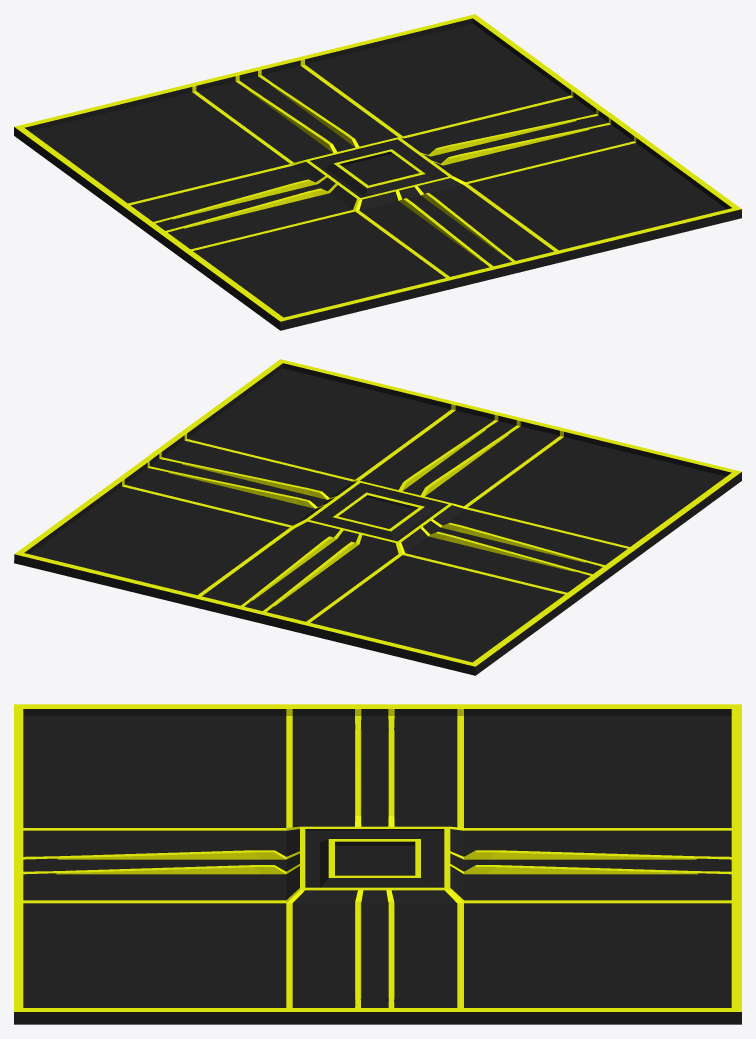
Rendered from finish-floor.glb.
3 views of the same model, one above another, from view 1: azimuth 30°, elevation 25°; view 2: azimuth 150°, elevation 25°; view 3: azimuth 270°, elevation 25° (orthographic). The views are drawn at different scales.
Visible parts, largest first — view 1: Box001; view 2: Box001; view 3: Box001.
Part boxes in pixels (x1,y1,x2,y2): Box001: [14, 14, 741, 330]; Box001: [14, 359, 741, 675]; Box001: [14, 704, 741, 1024].
Bounding box in the file's own units: 5.12 × 0.0961 × 5.12.
